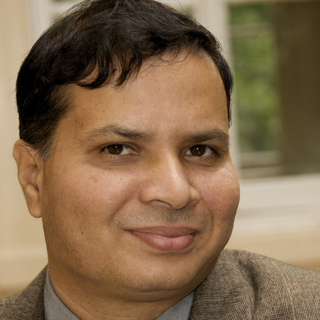eye: (93, 138, 144, 164), (178, 138, 224, 164)
